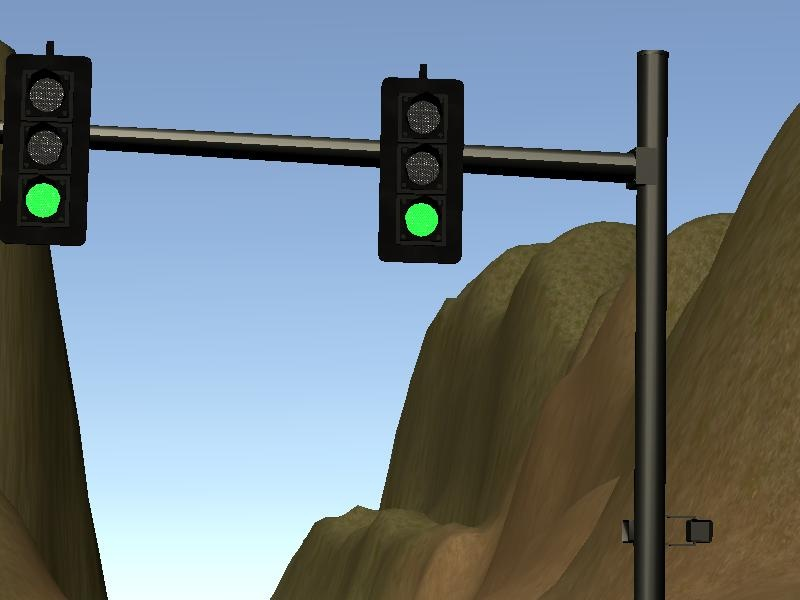GREEN: (376, 77, 465, 262), (7, 55, 87, 246)
